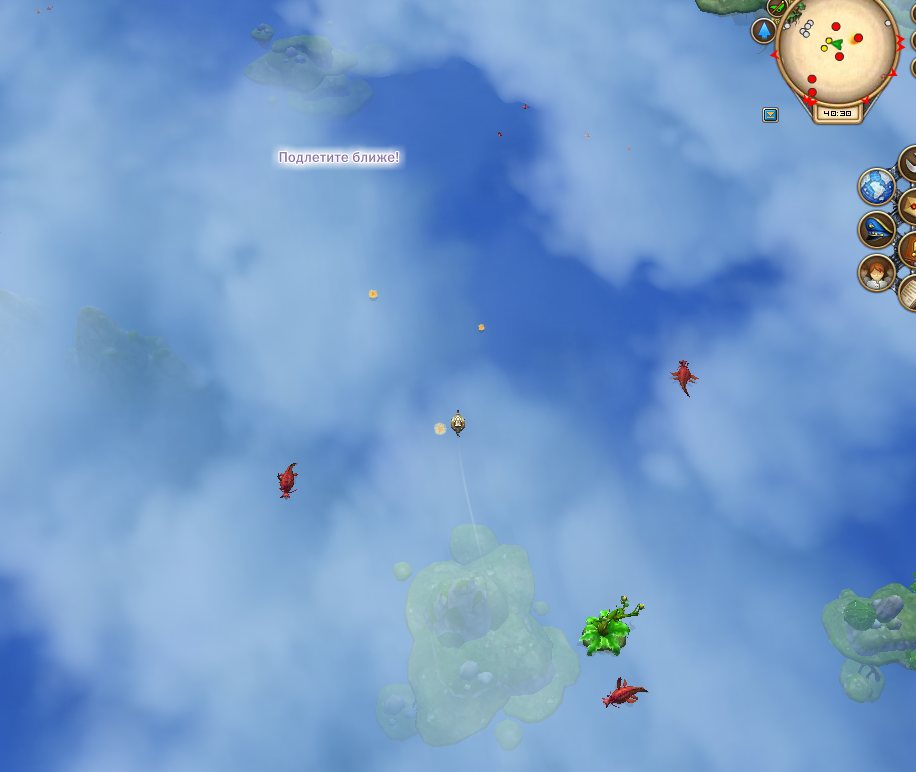dandelion-empty: (576, 593, 647, 661)
fluff: (431, 418, 449, 438), (364, 287, 382, 304), (473, 318, 487, 336)
